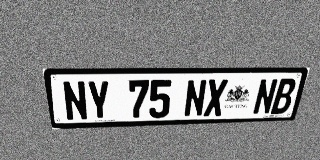5: (149, 80, 172, 118)
7: (127, 80, 149, 119)
B: (270, 78, 297, 114)
N: (61, 81, 89, 121), (252, 79, 279, 115), (183, 79, 207, 117)
X: (203, 79, 228, 116)
Y: (86, 80, 111, 120)
